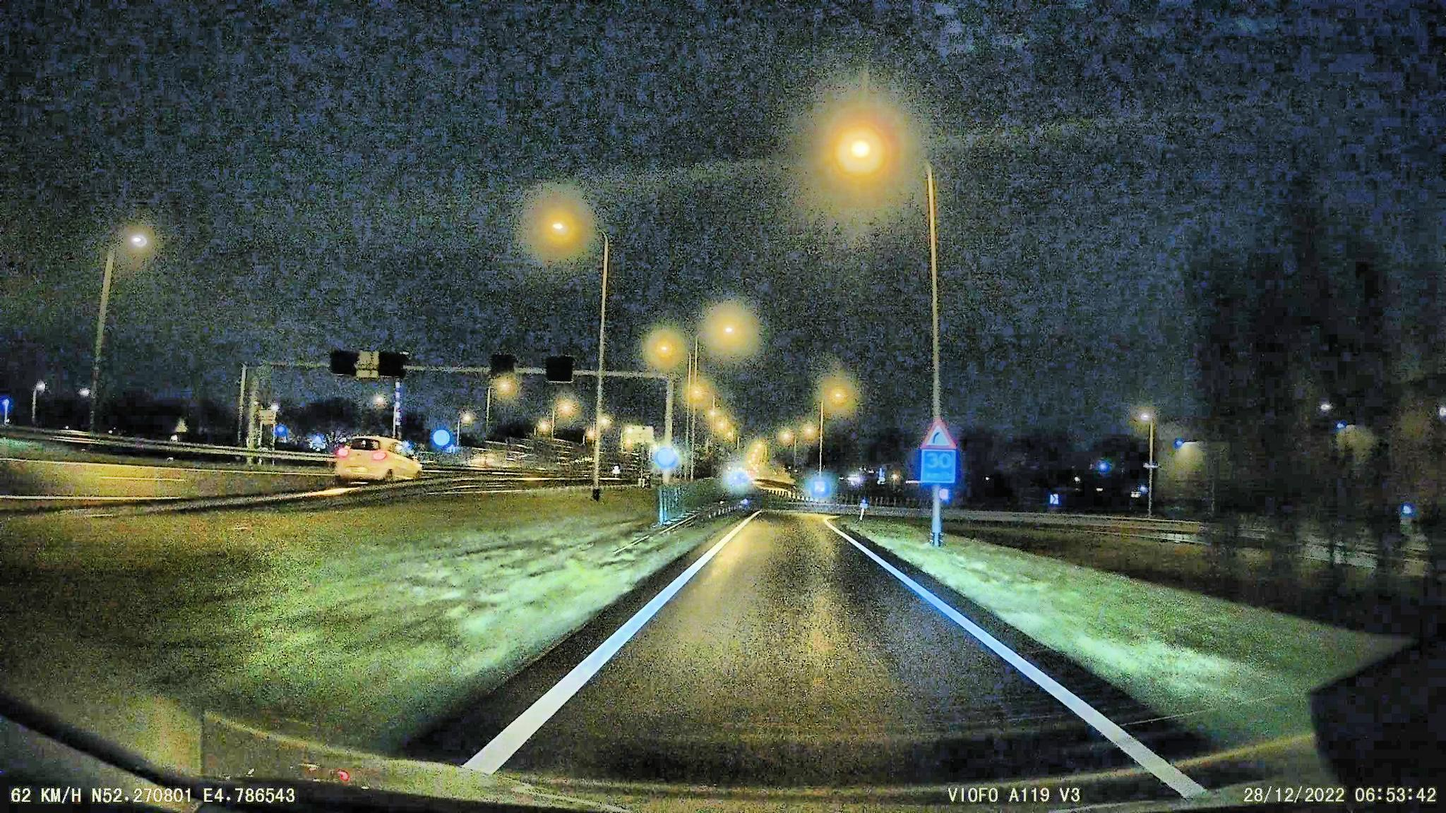Roads: (499, 513, 1184, 803)
